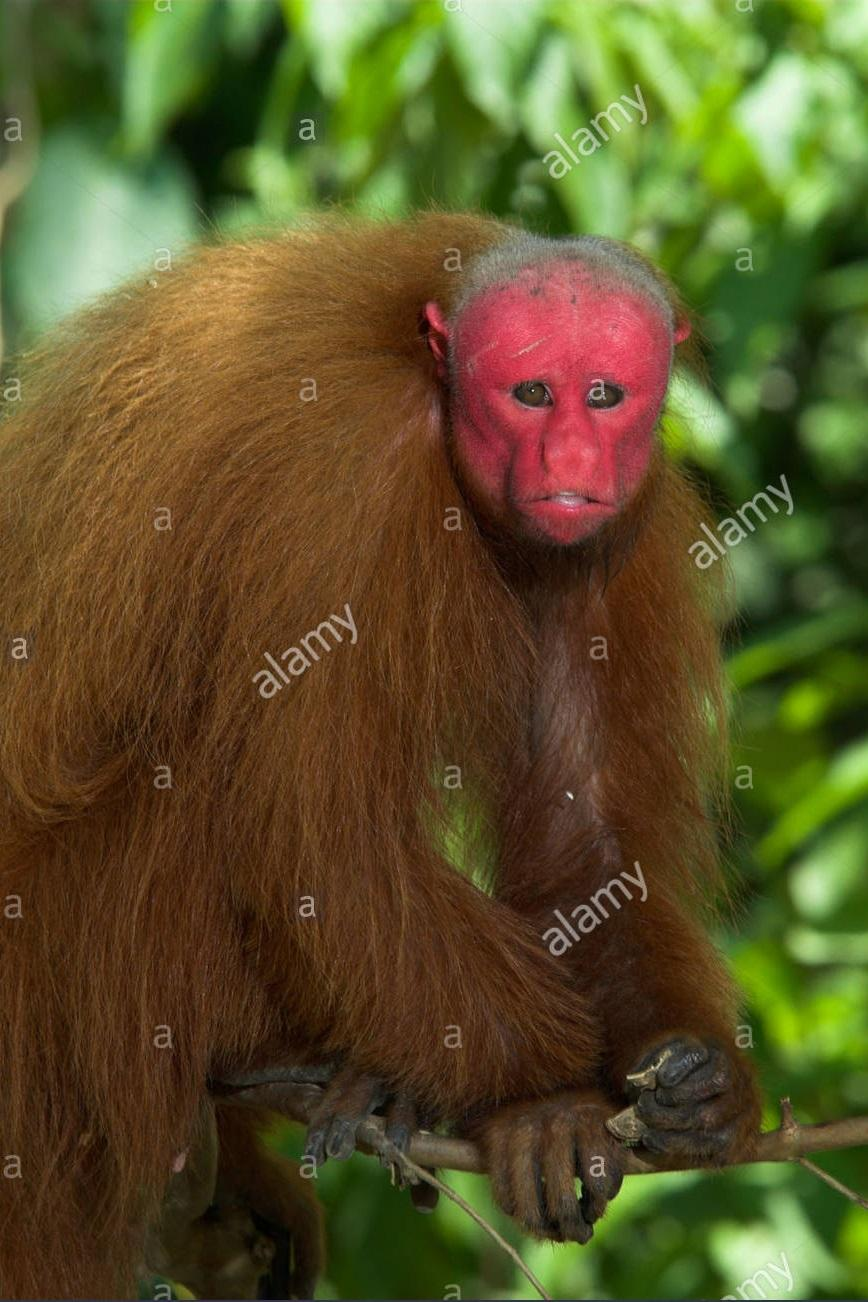monkey: (0, 210, 744, 1302)
